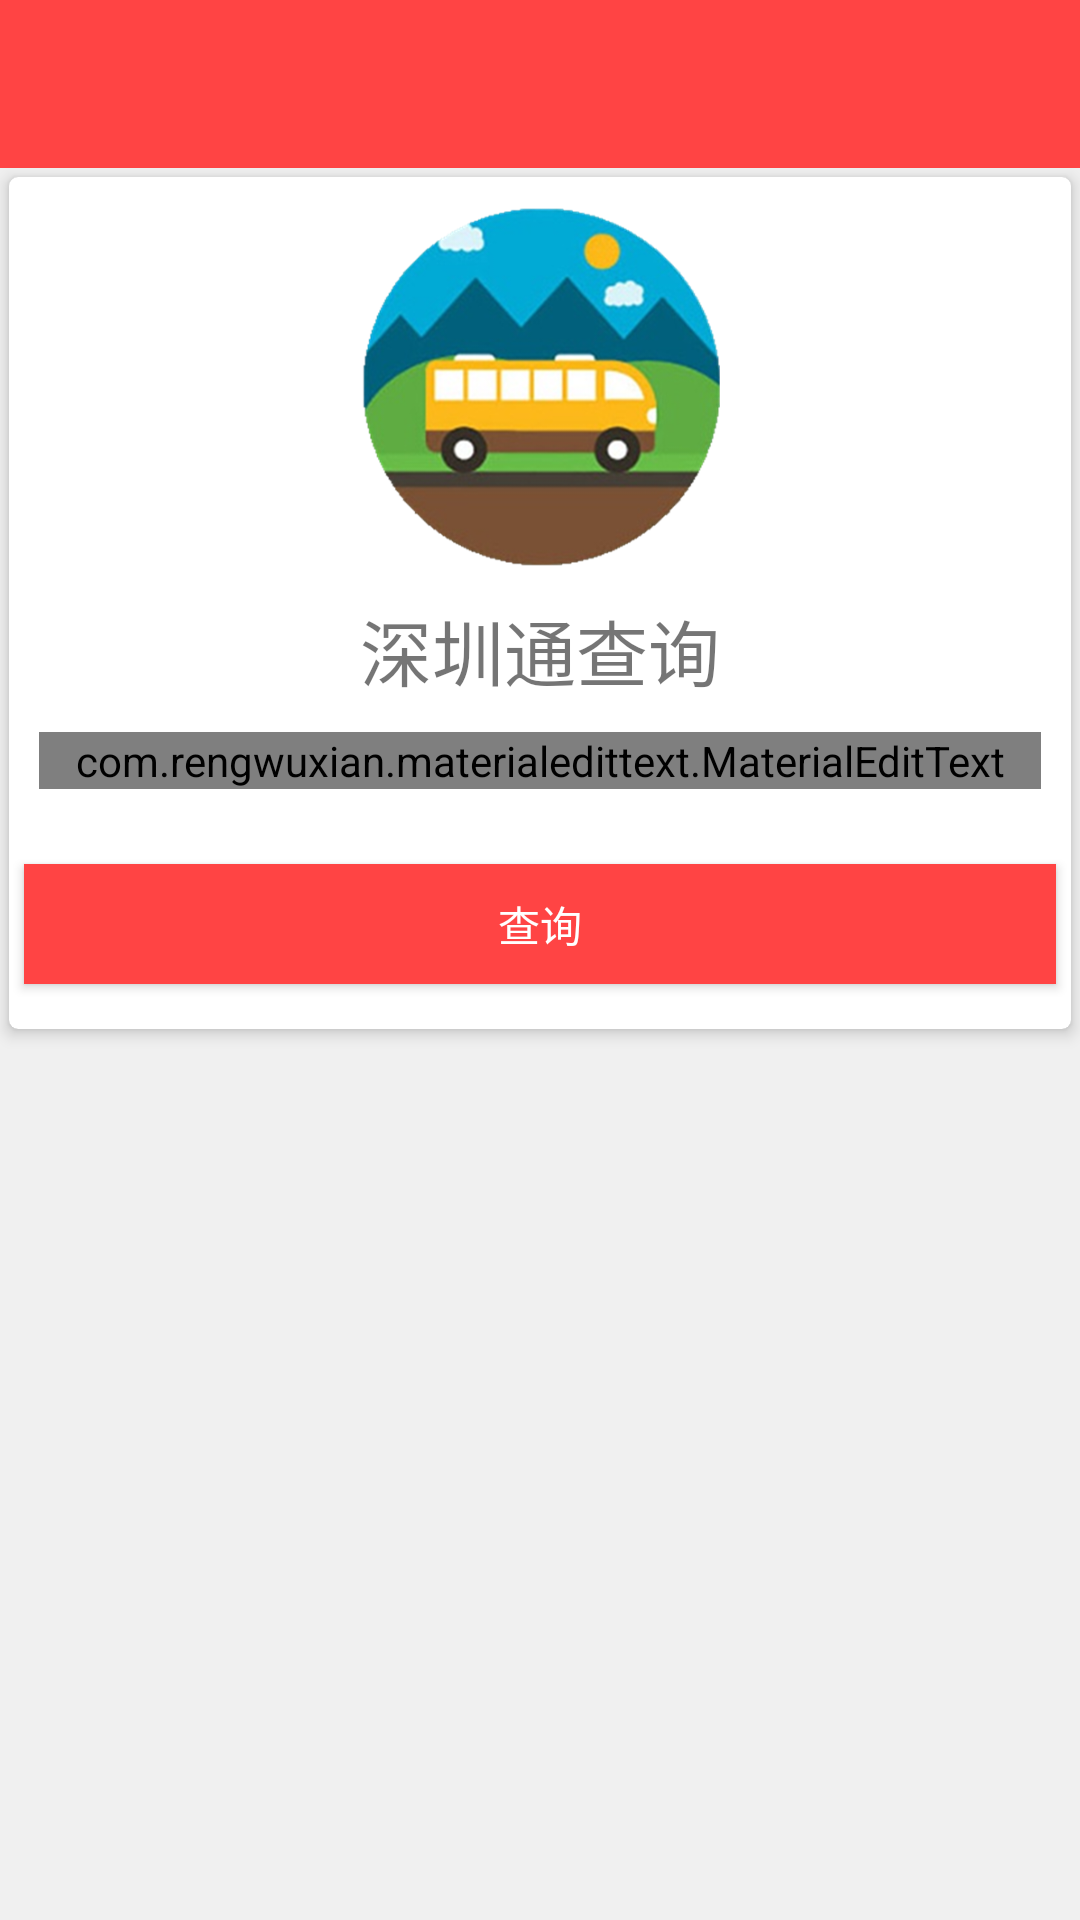

Icons on this 1080x1920 Android screen, each with its box as (x1, y1, x2, y2):
gongjiao: (363, 208, 720, 566)
